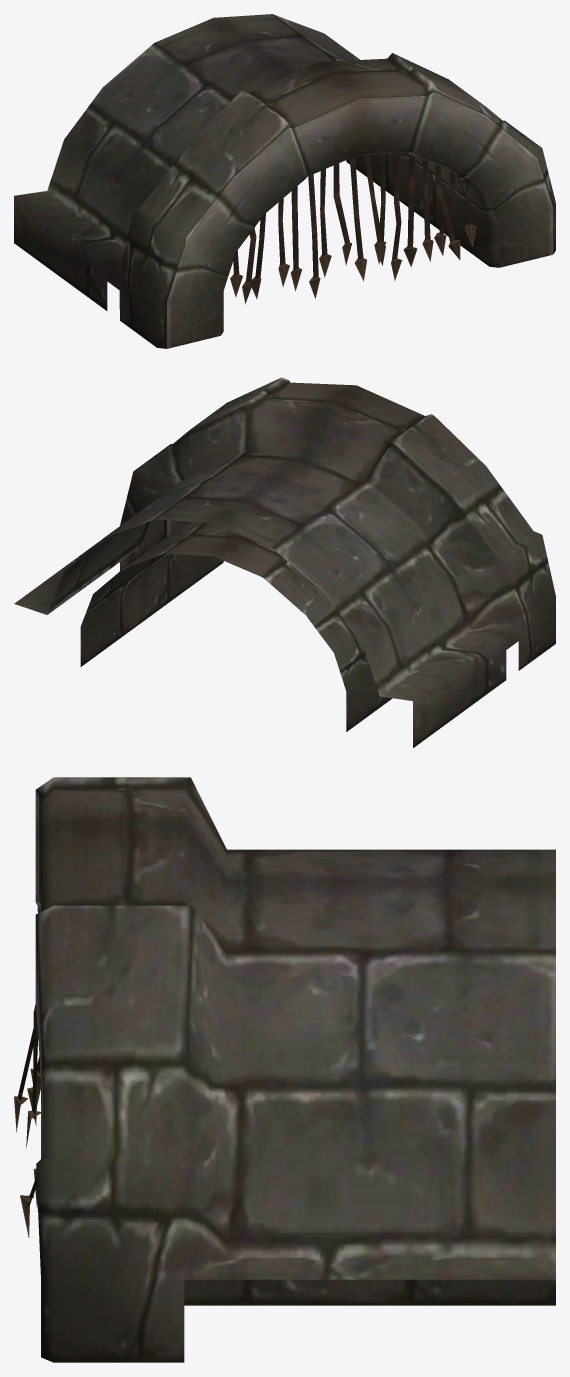
Rendered from h5_building_03.FBX.
The picture shows the model from 3 angles, top to bottom: view 1: azimuth 30°, elevation 25°; view 2: azimuth 150°, elevation 25°; view 3: azimuth 270°, elevation 25°; orthographic projection. The views are drawn at different scales.
Parts seen in each view (by area): view 1: h5_building_03; view 2: h5_building_03; view 3: h5_building_03.
Boxes of the visible parts, <box> form: h5_building_03: <box>14,14,555,348</box>; h5_building_03: <box>14,377,555,747</box>; h5_building_03: <box>14,777,555,1362</box>.
Bounding box in the file's own units: 13.67 × 6.87 × 9.16.
